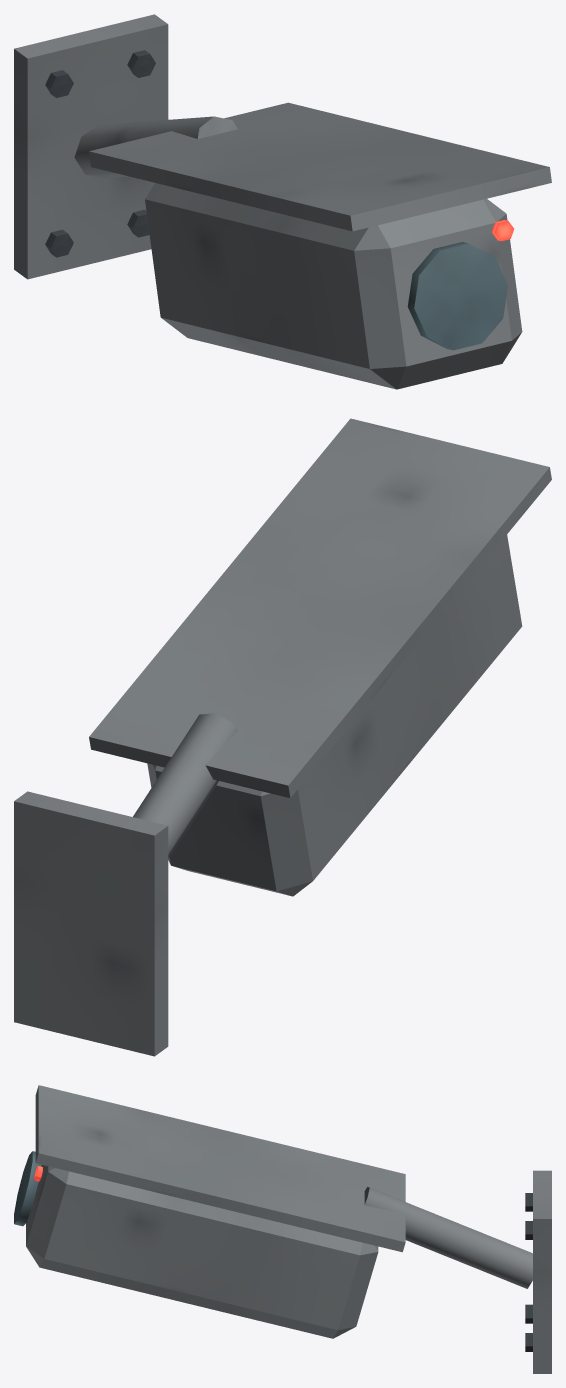
File: cctv_prison.fbx
3 renders of one model, top to bottom at view 1: azimuth 30°, elevation 25°; view 2: azimuth 150°, elevation 25°; view 3: azimuth 270°, elevation 25°, orthographic. The views are drawn at different scales.
Visible parts, largest first — view 1: cctv_prison_head, cctv_prison; view 2: cctv_prison_head, cctv_prison; view 3: cctv_prison_head, cctv_prison.
Boxes of the visible parts, x1,y1,x2,y2 form: cctv_prison_head: (89,102,551,389); cctv_prison: (14,14,237,279); cctv_prison_head: (89,418,551,896); cctv_prison: (14,713,237,1056); cctv_prison_head: (14,1085,405,1338); cctv_prison: (364,1170,551,1373).
Bounding box in the file's own units: 0.17 × 0.2679 × 0.5664.
Materials: 1 (1 with a texture image).
